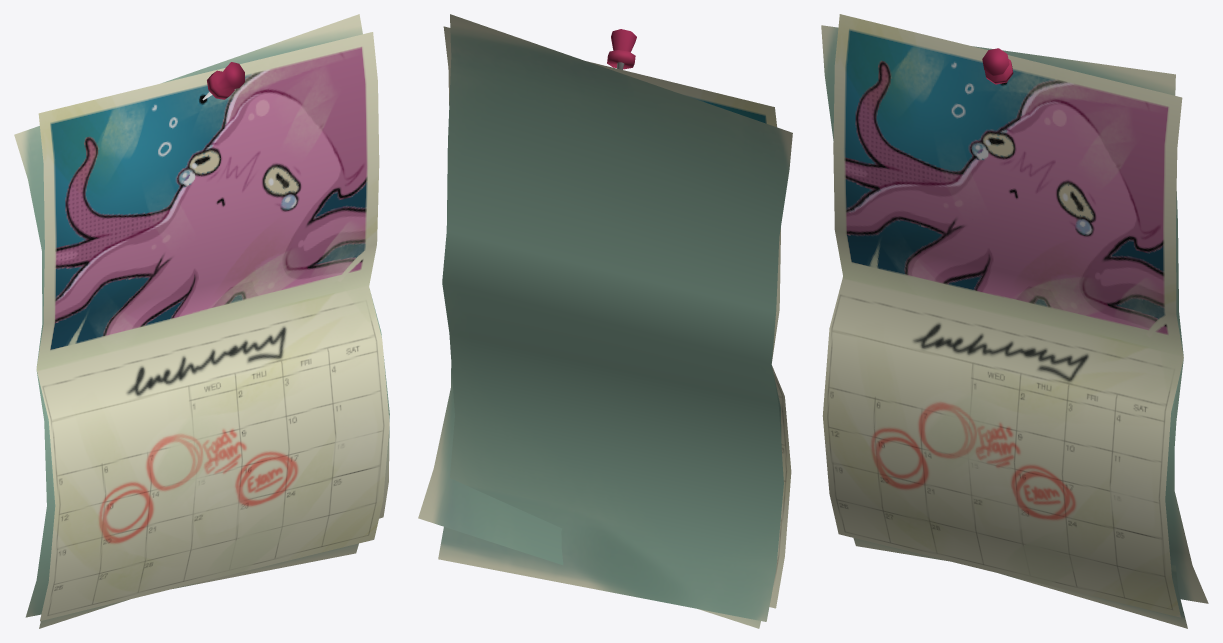
Rendered from Callendar.fbx.
3 views of the same model, side by side, from view 1: azimuth 30°, elevation 25°; view 2: azimuth 150°, elevation 25°; view 3: azimuth 330°, elevation 25° (orthographic). The views are drawn at different scales.
Visible parts, largest first — view 1: Callendar; view 2: Callendar; view 3: Callendar.
Part boxes in pixels (x1,y1,x2,y2): Callendar: (14, 14, 389, 628); Callendar: (418, 14, 792, 628); Callendar: (821, 14, 1208, 628).
Size of the model in its own units: 69.17 by 97.44 by 11.95.
